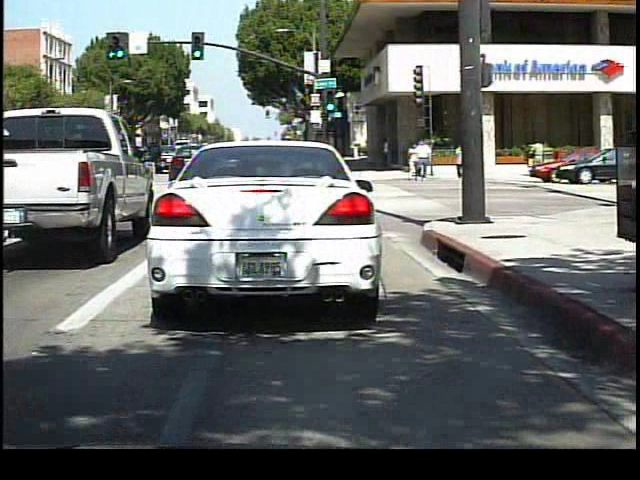person: (526, 135, 547, 176), (414, 136, 433, 181), (450, 136, 468, 182)
